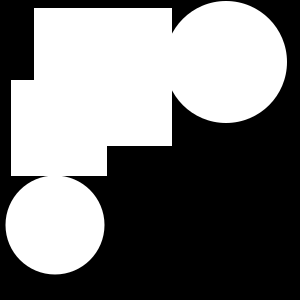circle: (34, 8, 172, 146), (11, 80, 107, 176)
rectangle: (165, 1, 287, 123), (5, 176, 104, 274), (182, 36, 264, 117)
